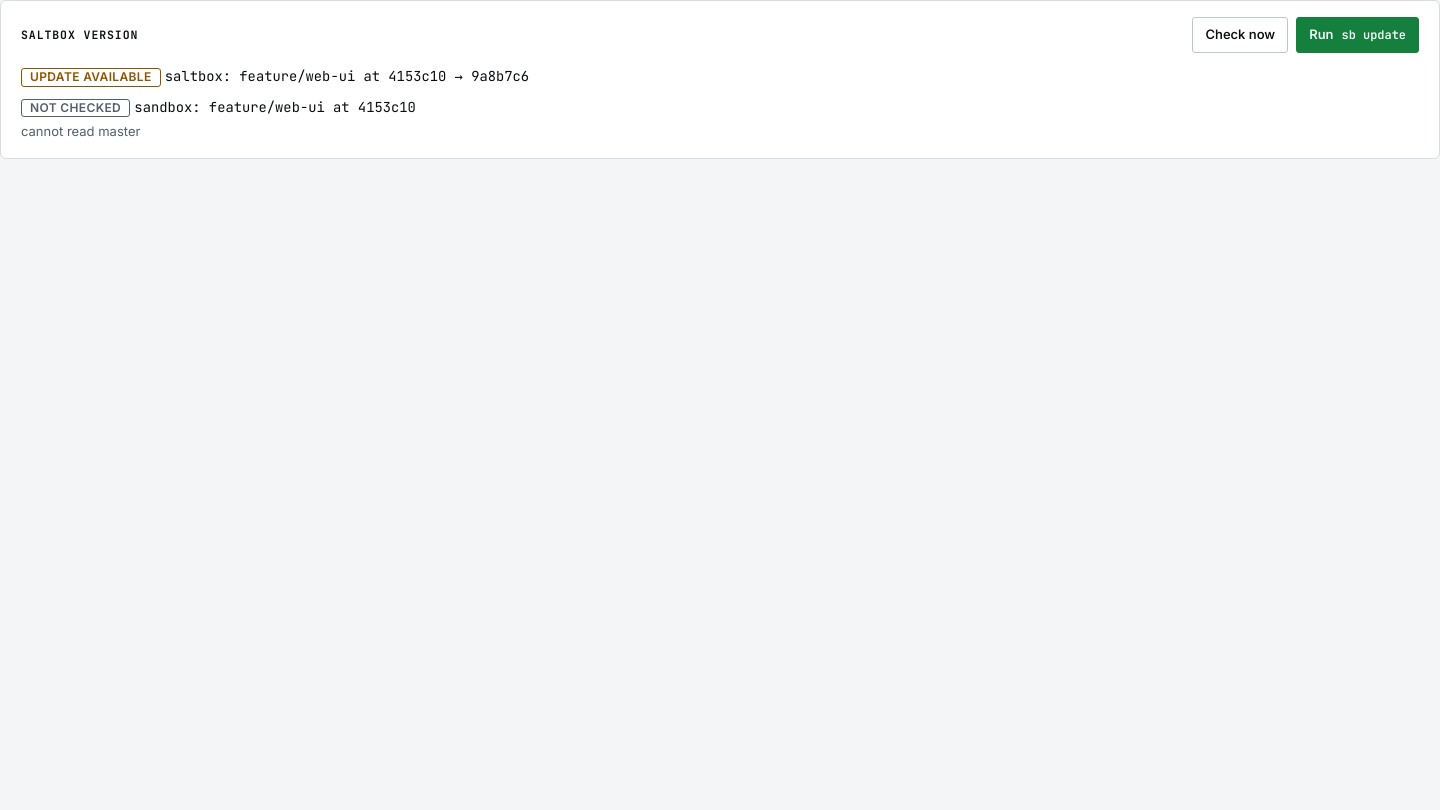
Test: SaltboxUpdates › runs sb update after confirming and opens the job
The width and height of the screenshot is (1440, 810).
Check: the text "saltbox: feature/web-ui at 4153c10 → 9a8b7c6" is shown, box [165,67,529,85]
Check: the text "cannot read master" is shown, box [21,123,140,139]
What coordinates should you click on to do the following:
click the button "Run sb update"
I would click on:
 (1358, 35)
Its box is [1296,17,1419,53].
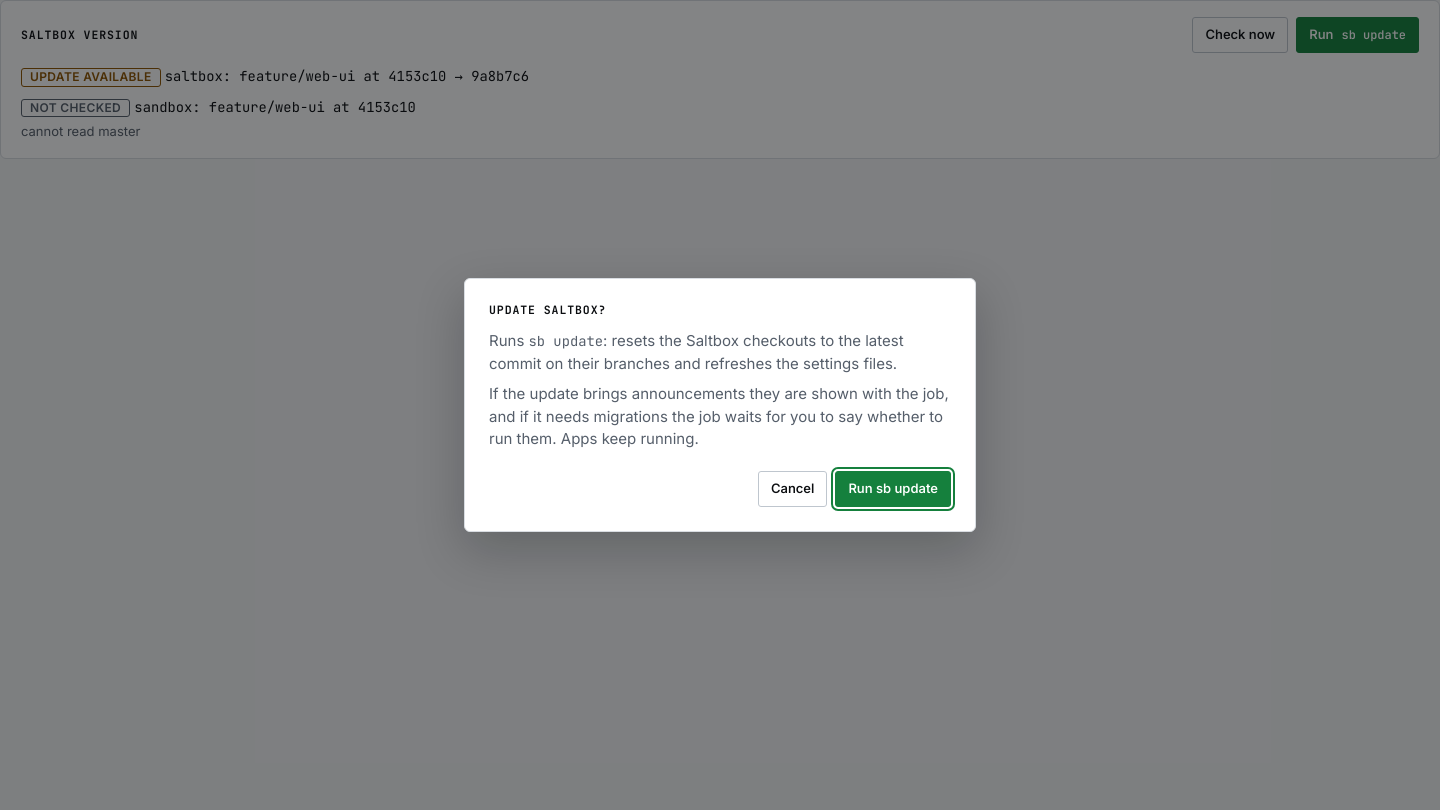
Check: the dialog "Update Saltbox?" shows "resets the Saltbox checkouts", box [489,331,904,373]
What coordinates should you click on to do the following:
click the button "Run sb update"
I would click on:
 (893, 489)
Its box is [835,471,951,507].
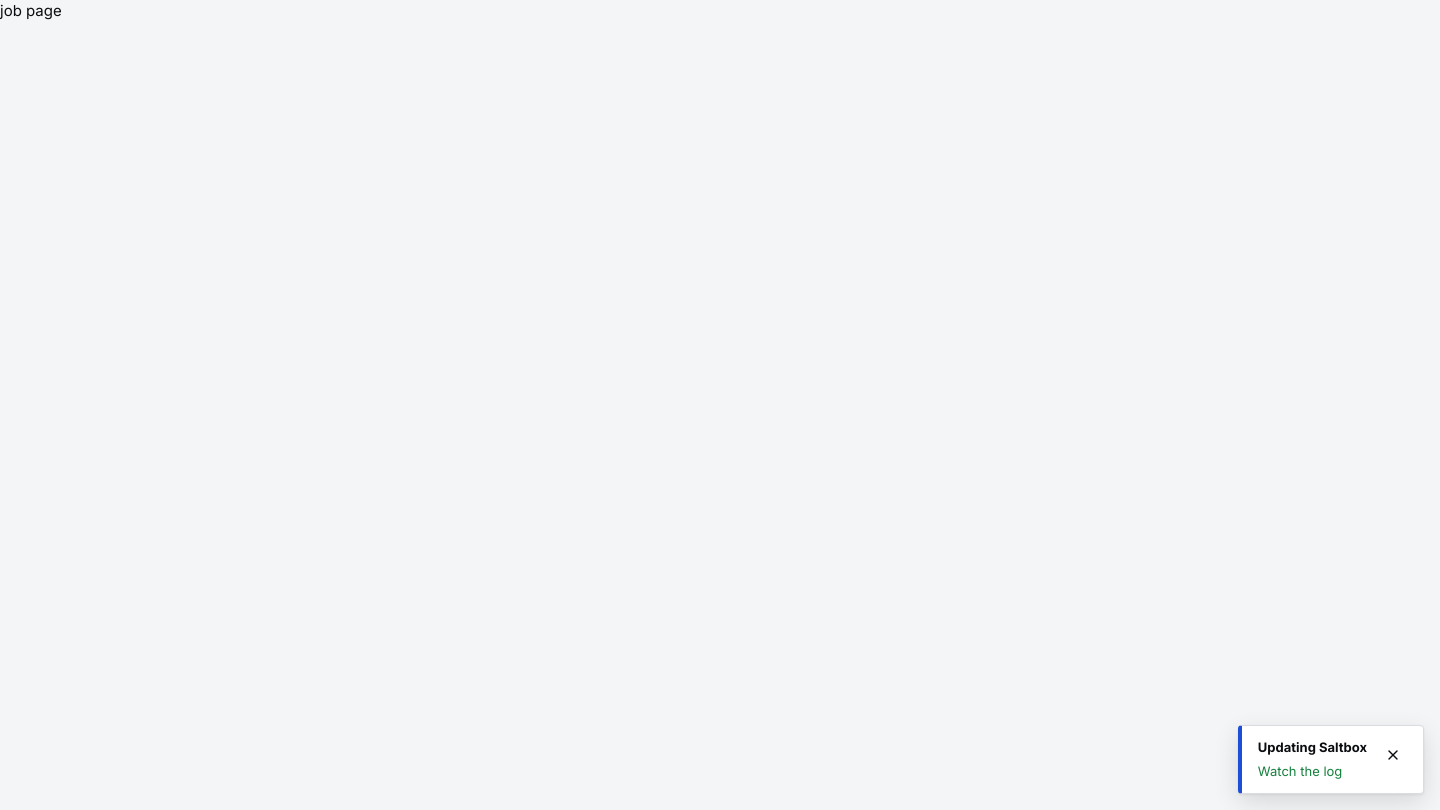
Check: the text "job page" is shown, box [0,1,62,20]
